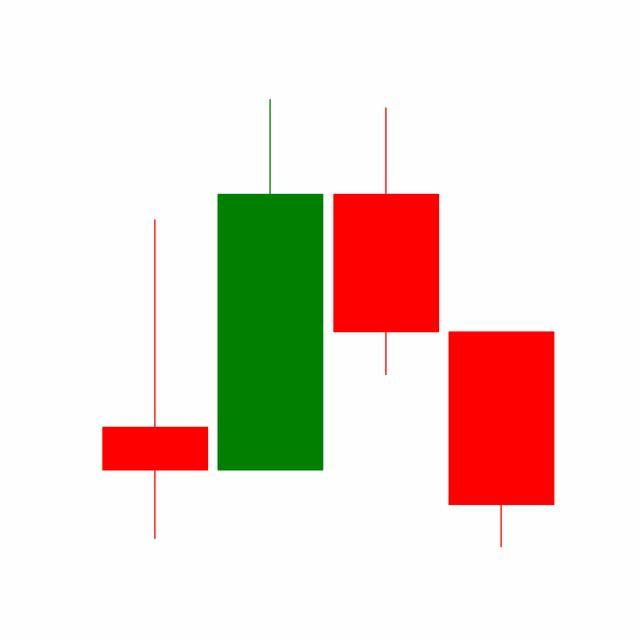Marubozu: (444, 329, 560, 550)
